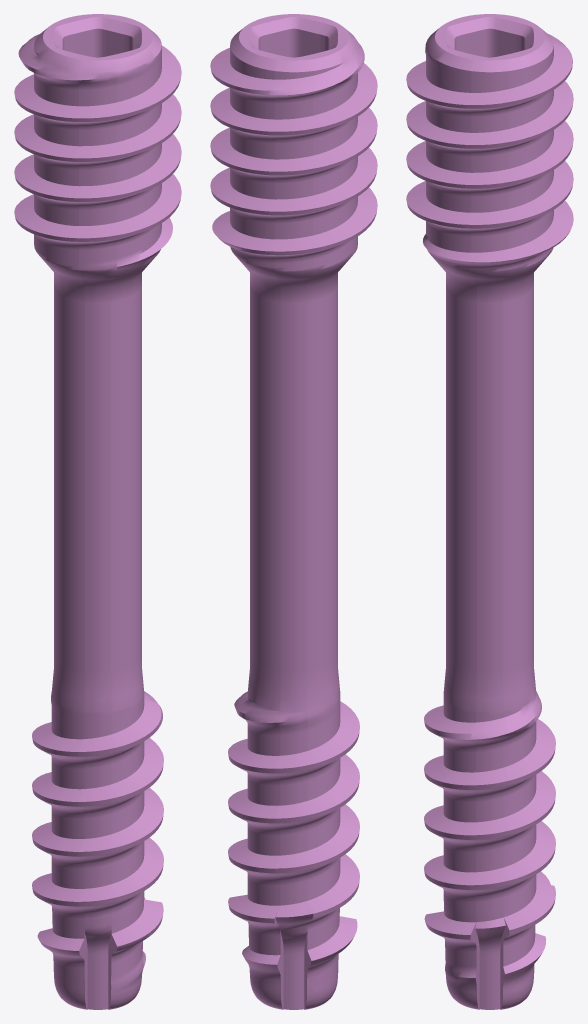
Rendered from herbert.glb.
The picture shows the model from 3 angles, left to right: view 1: azimuth 30°, elevation 25°; view 2: azimuth 150°, elevation 25°; view 3: azimuth 270°, elevation 25°; orthographic projection.
Parts seen in each view (by area): view 1: os36_herbert_3x24; view 2: os36_herbert_3x24; view 3: os36_herbert_3x24.
Boxes of the visible parts, bbox=[...] form: os36_herbert_3x24: bbox=[14, 14, 181, 1009]; os36_herbert_3x24: bbox=[210, 14, 377, 1009]; os36_herbert_3x24: bbox=[406, 14, 573, 1009].
Bounding box in the file's own units: 0.0038 × 0.024 × 0.0038.
